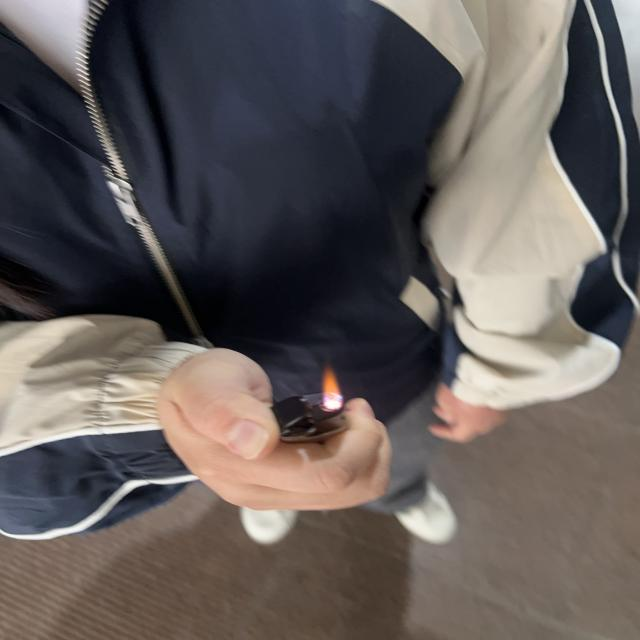fire: (318, 368, 346, 402)
